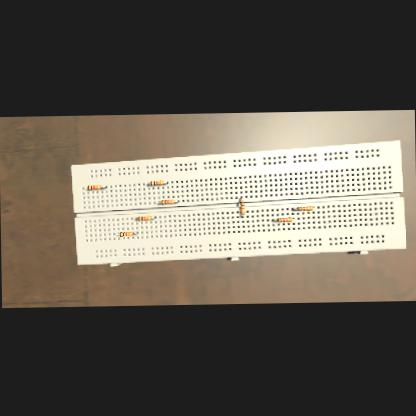breadboard: (70, 139, 406, 266)
resistor: (86, 184, 100, 190), (276, 216, 292, 221), (160, 198, 174, 203), (298, 205, 312, 210), (240, 200, 245, 214), (148, 180, 162, 184), (137, 215, 151, 219), (118, 232, 132, 235)
wire: (271, 218, 277, 220), (151, 216, 156, 218), (240, 196, 242, 199), (133, 232, 138, 233), (146, 182, 148, 184), (175, 200, 179, 201), (164, 181, 167, 182), (85, 186, 86, 188), (242, 214, 243, 216), (116, 233, 118, 234), (100, 186, 106, 186), (158, 202, 160, 202)
